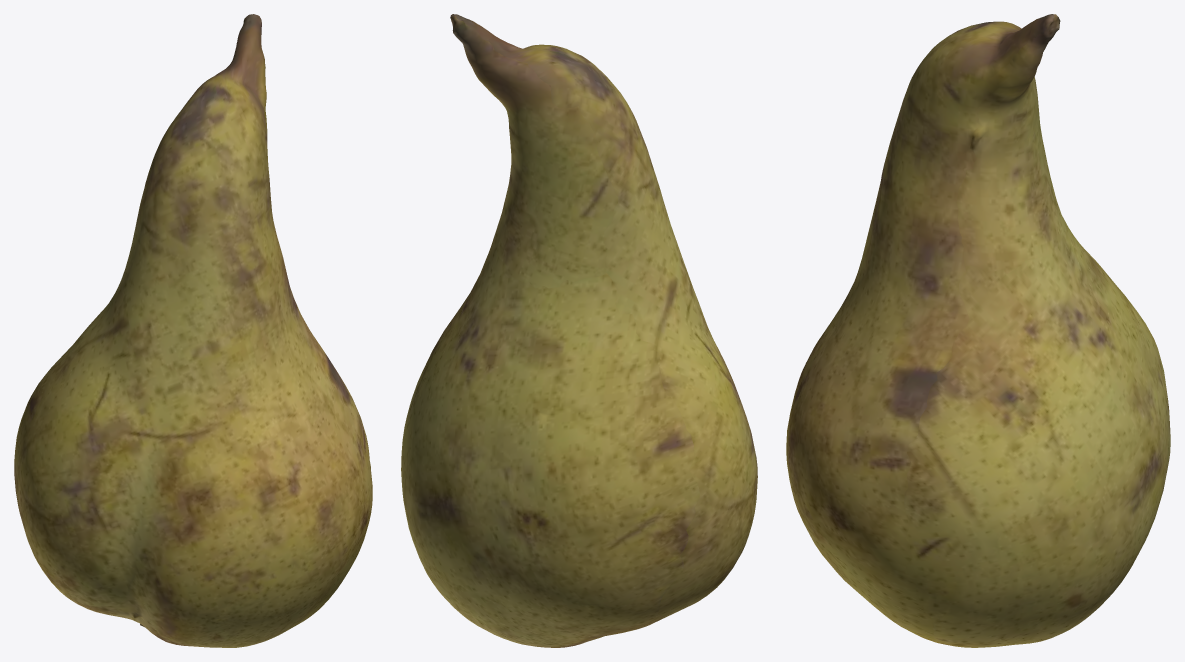
Rendered from pear-green.glb.
3 views of the same model, side by side, from view 1: azimuth 30°, elevation 25°; view 2: azimuth 150°, elevation 25°; view 3: azimuth 270°, elevation 25° (orthographic). The views are drawn at different scales.
Visible parts, largest first — view 1: pear-green; view 2: pear-green; view 3: pear-green.
Part boxes in pixels (x1,y1,x2,y2): pear-green: [14, 14, 372, 647]; pear-green: [401, 14, 757, 647]; pear-green: [786, 14, 1170, 647].
Size of the model in its own units: 0.0714 by 0.1283 by 0.0683.
1 material, 1 textured.
